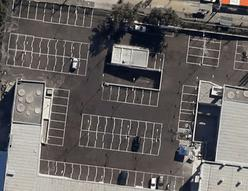parkingspot: (38, 158, 185, 191), (11, 0, 94, 29), (6, 48, 88, 77), (7, 32, 91, 60), (79, 129, 162, 157), (81, 113, 163, 140), (46, 88, 71, 147), (102, 84, 160, 108), (185, 31, 207, 66), (128, 22, 175, 38), (202, 32, 223, 67), (179, 85, 200, 112), (233, 37, 248, 72), (147, 51, 166, 72), (177, 112, 197, 131), (176, 132, 194, 142)
